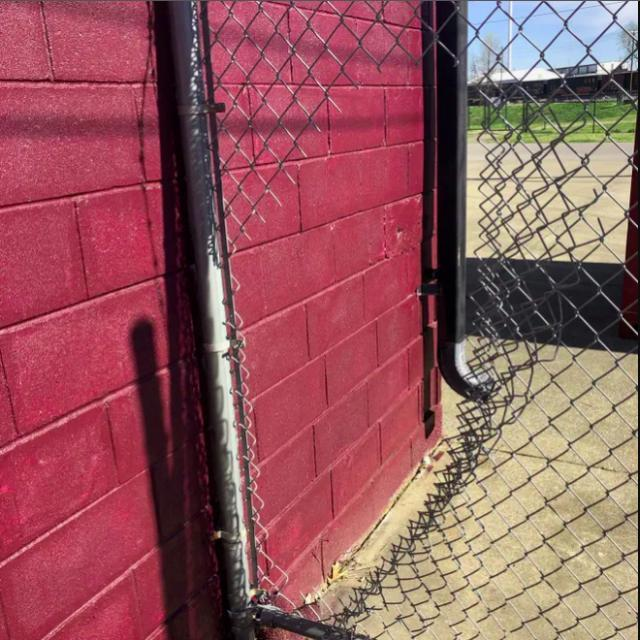fence line: (222, 52, 495, 599)
